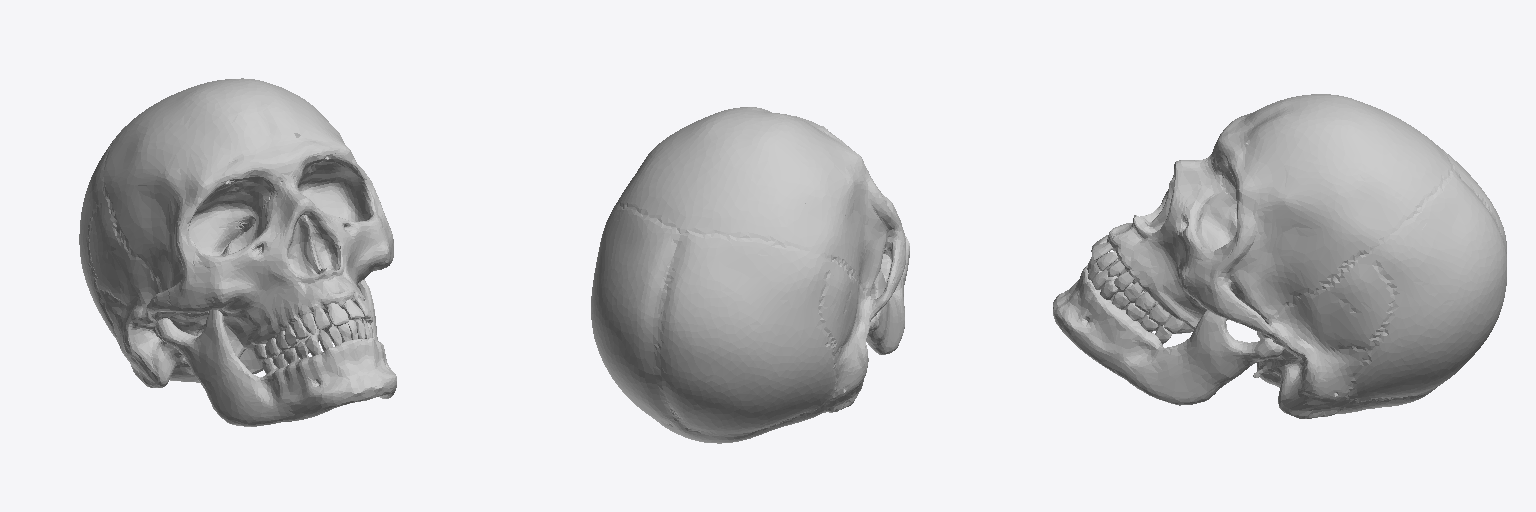
Rendered from Skull-Model.obj.
The picture shows the model from 3 angles: view 1: azimuth 30°, elevation 25°; view 2: azimuth 150°, elevation 25°; view 3: azimuth 270°, elevation 25°; orthographic projection.
Visible parts, largest first — view 1: craneo; view 2: craneo; view 3: craneo.
Boxes of the visible parts, x1=… form: craneo: x1=79, y1=78, x2=396, y2=426; craneo: x1=591, y1=107, x2=909, y2=443; craneo: x1=1053, y1=94, x2=1506, y2=418.
Size of the model in its own units: 2.41 by 3.03 by 4.11.